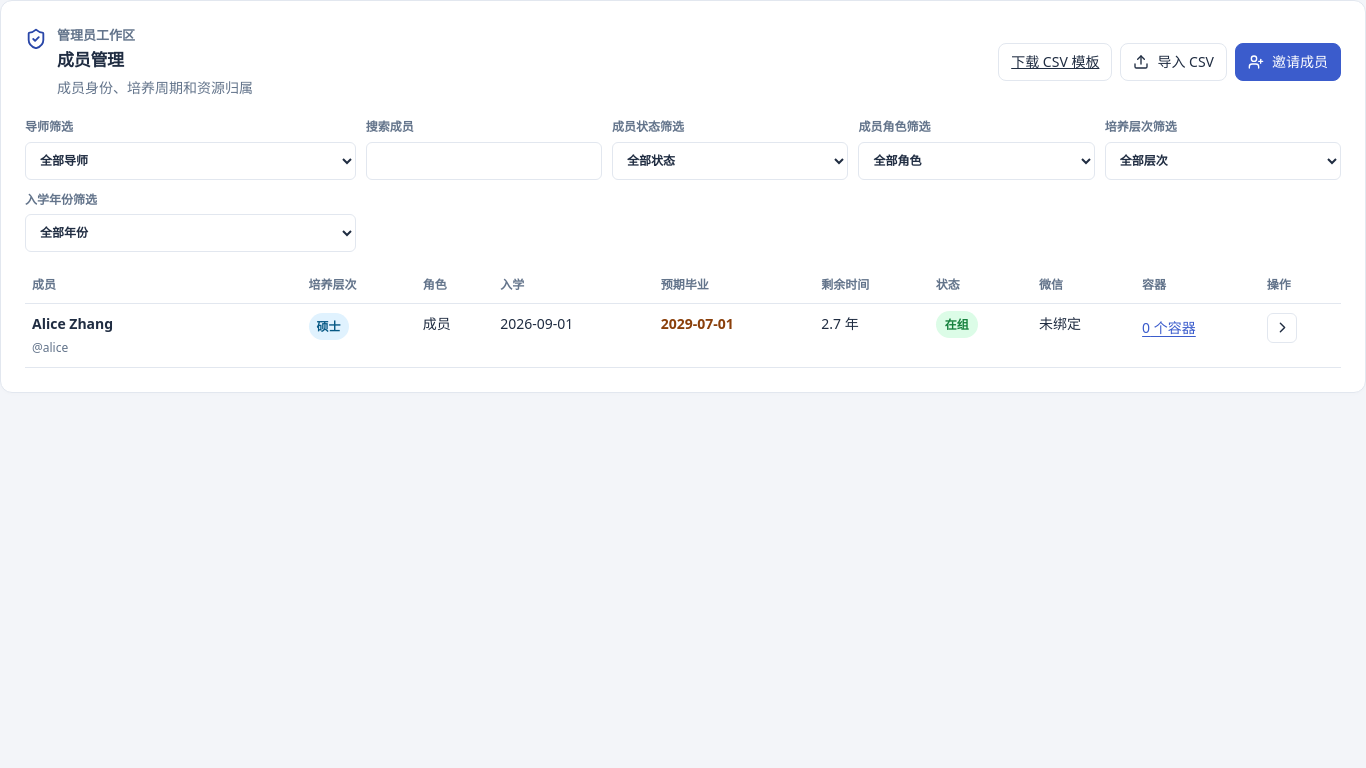
Test: previews academic defaults and provides an initial password without pairing codes
Check: the text "Alice Zhang" is shown, box [32,314,113,333]
Click the button "邀请成员".
click(1288, 62)  # box [1235,43,1341,81]
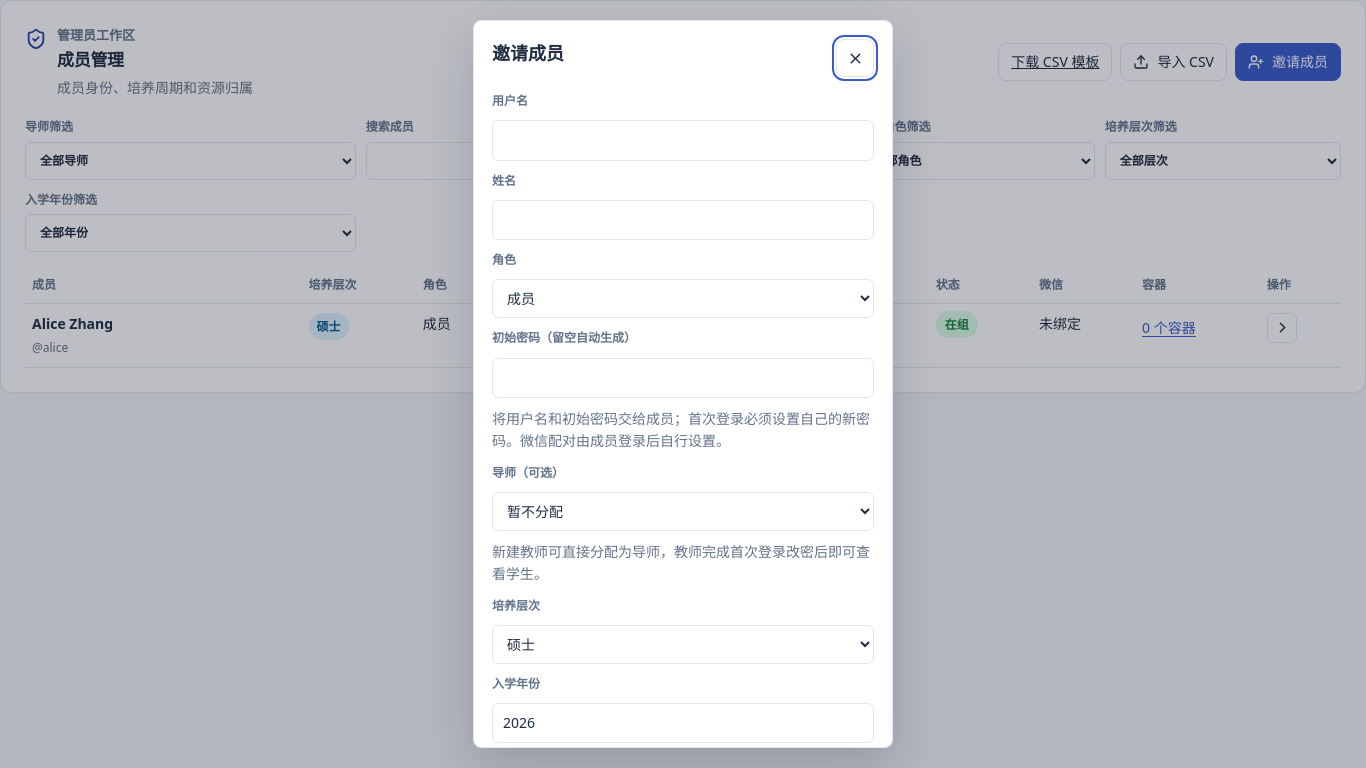
Replace the text in the number field labelled "入学年份" with "2028" at (683, 723), box [492,703,874,743]
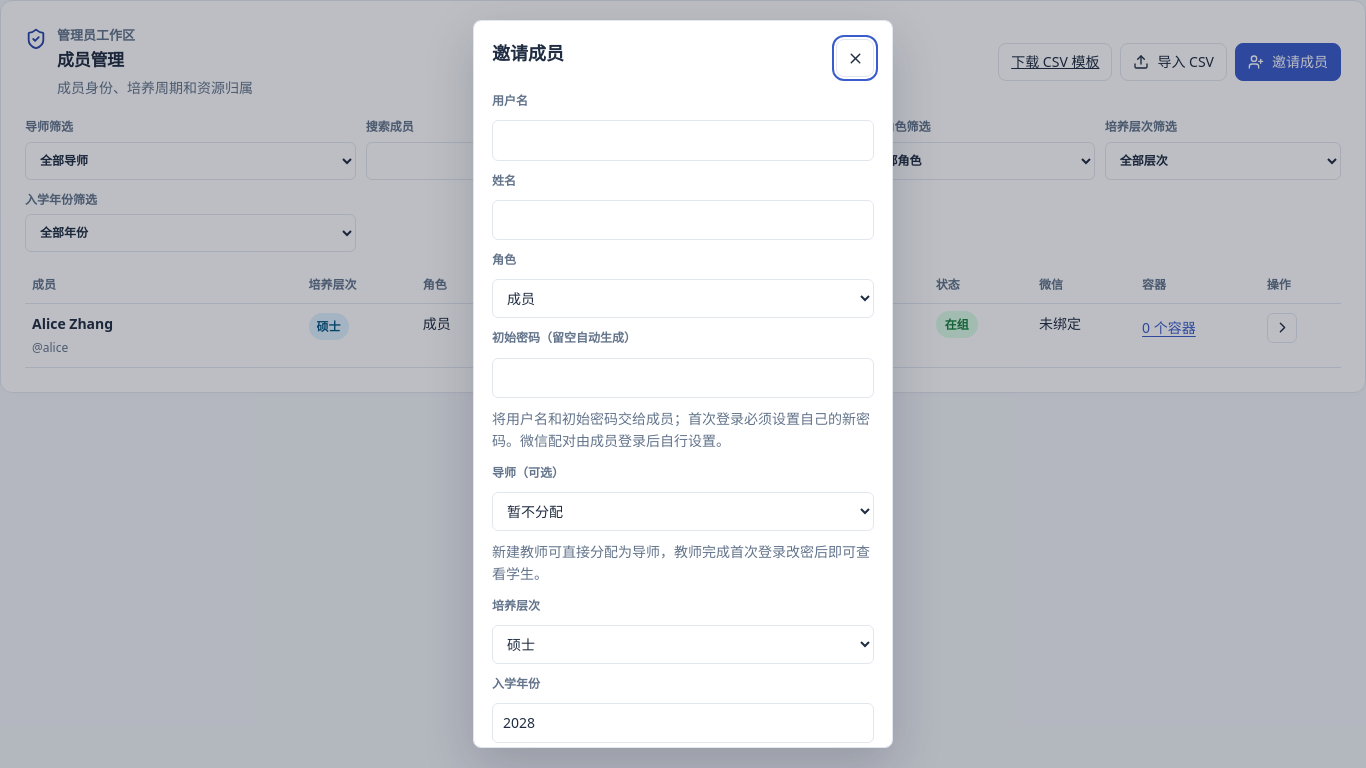
Type "new-member" into the field labelled "用户名".
click(683, 140); type("new-member")  # box [492,120,874,161]
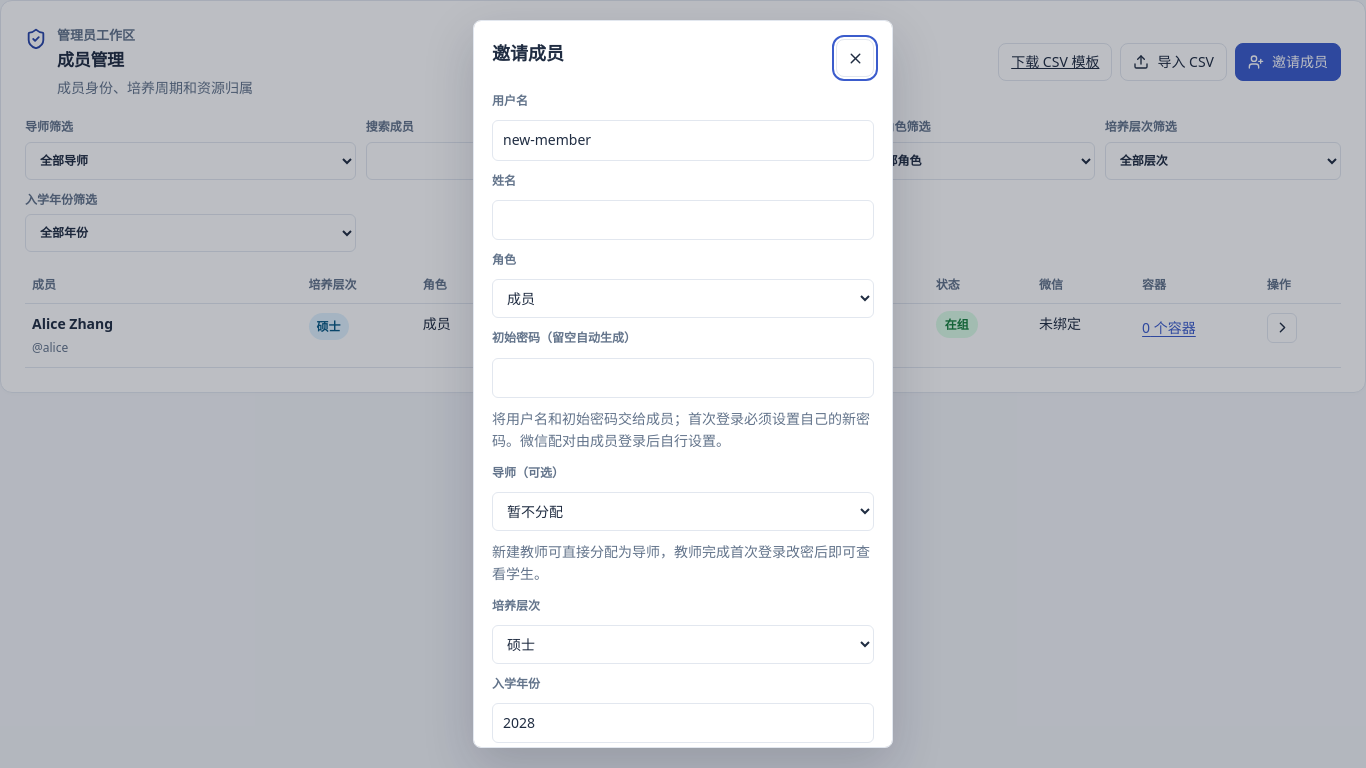
Type "New Member" into the field labelled "姓名".
click(683, 220); type("New Member")  # box [492,200,874,240]
(page scrolled)
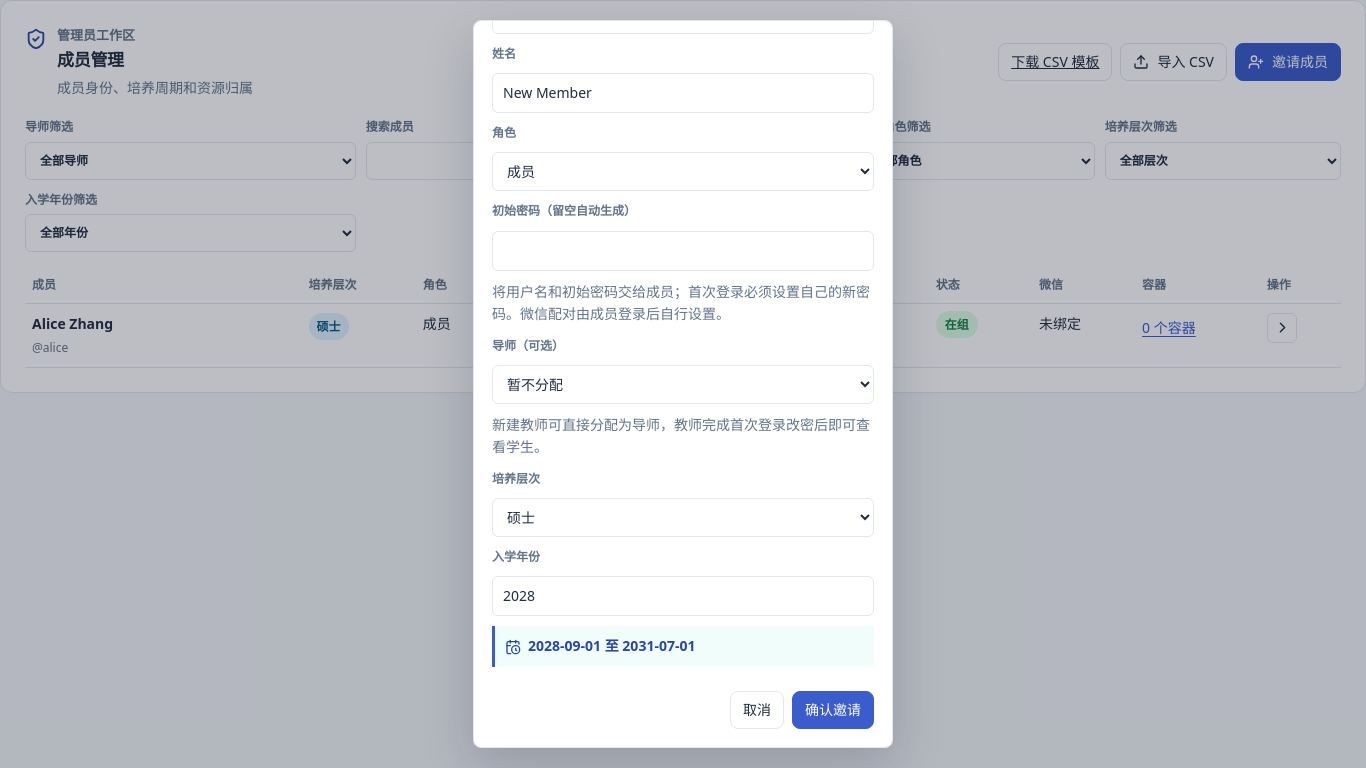
Click the button "确认邀请".
click(833, 710)  # box [792,691,874,729]
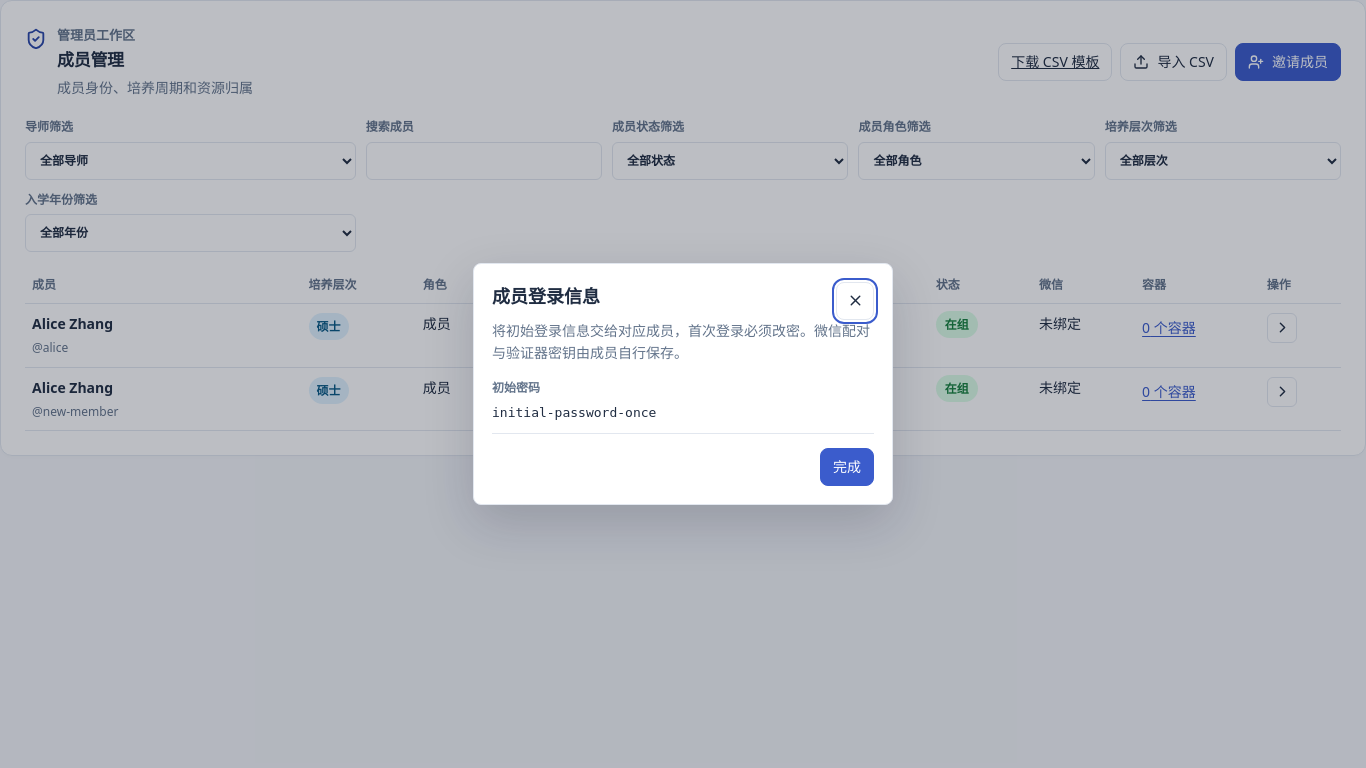
Check: the text "initial-password-once" is shown, box [492,405,656,420]
